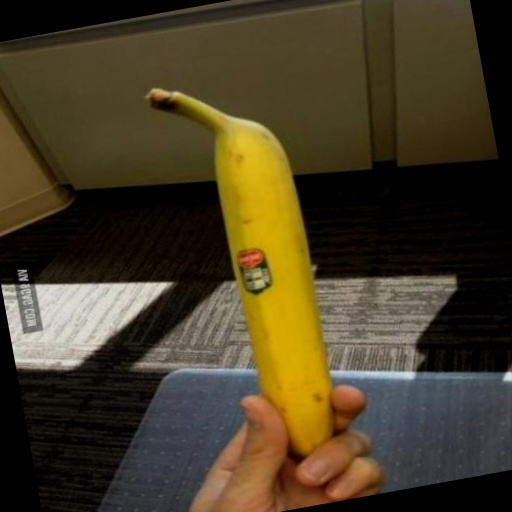fruit: (189, 165, 451, 512)
